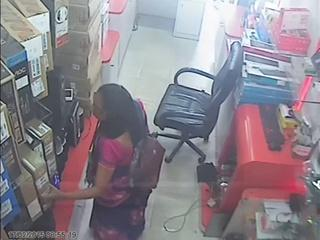Normal: (46, 84, 160, 240)
